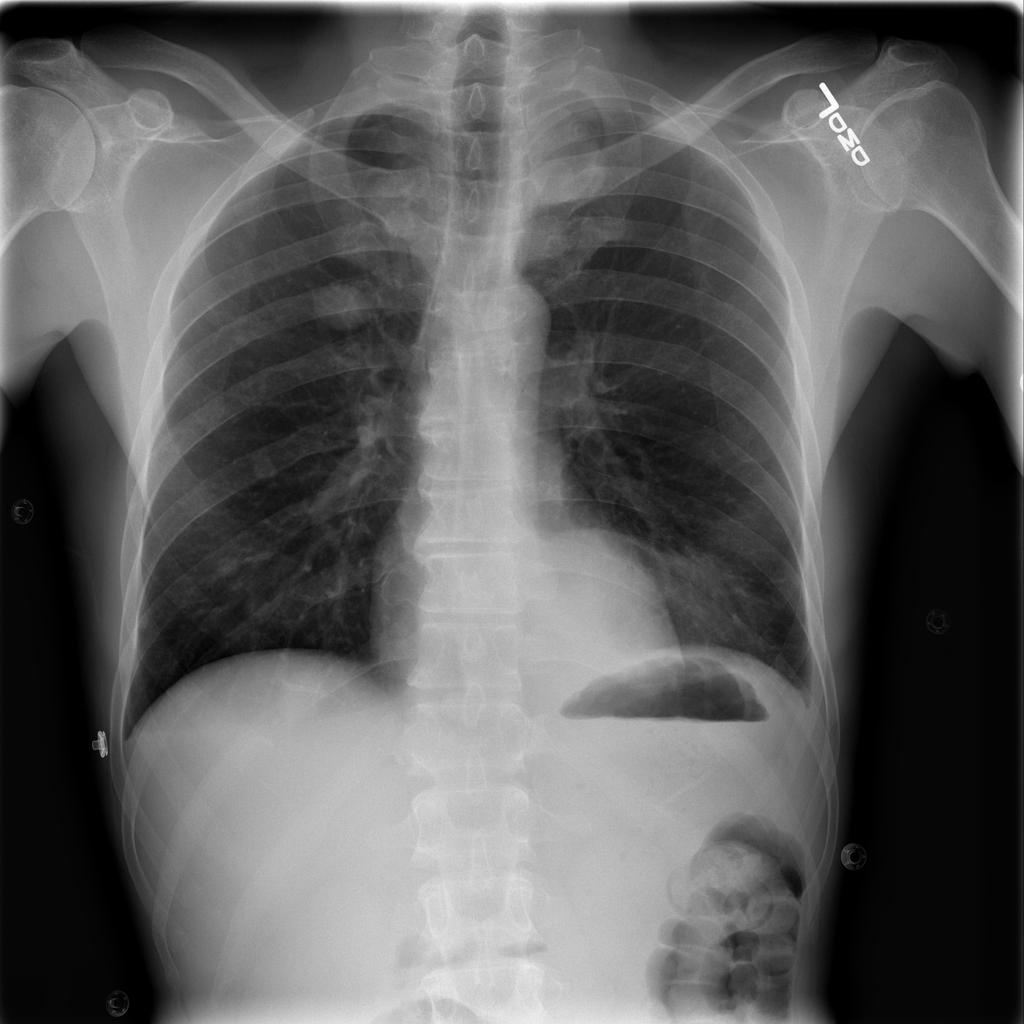nodule: (302, 269, 382, 340), (239, 438, 289, 491), (199, 540, 253, 588), (231, 582, 280, 633)
